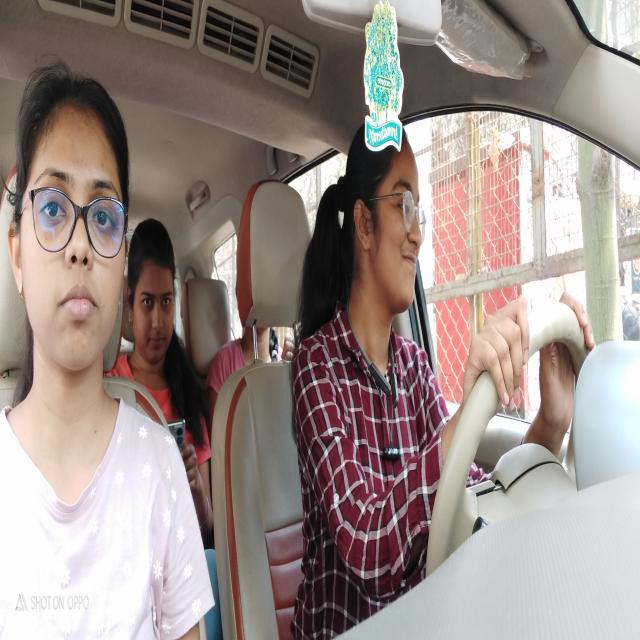person: (2, 55, 131, 398), (344, 118, 433, 335), (128, 211, 178, 369)
